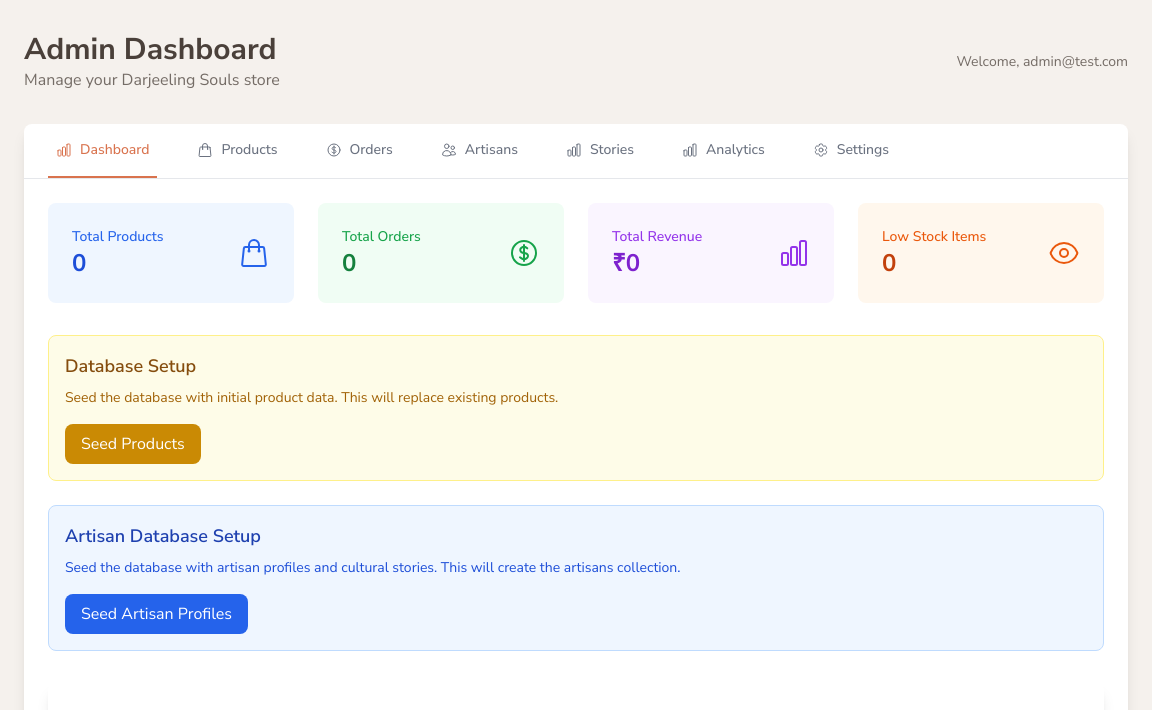
Test case: Story Management in Admin Panel › should display stories management interface
This screenshot has width=1152, height=710.
Click stories tab
Click the button "Stories": point(600, 151) top-left (558, 124), bottom-right (642, 178)
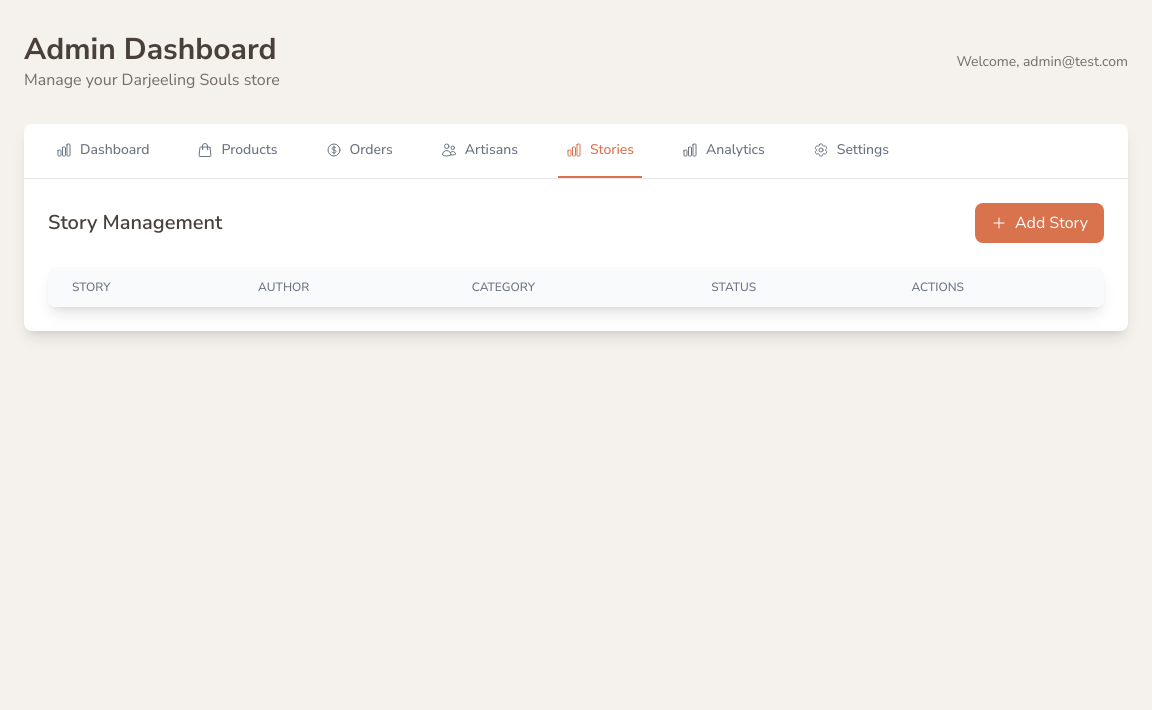
Check: the heading "Story Management" is shown, box top-left (48, 209), bottom-right (222, 237)
Check: the button "Add Story" is shown, box top-left (975, 203), bottom-right (1104, 243)
